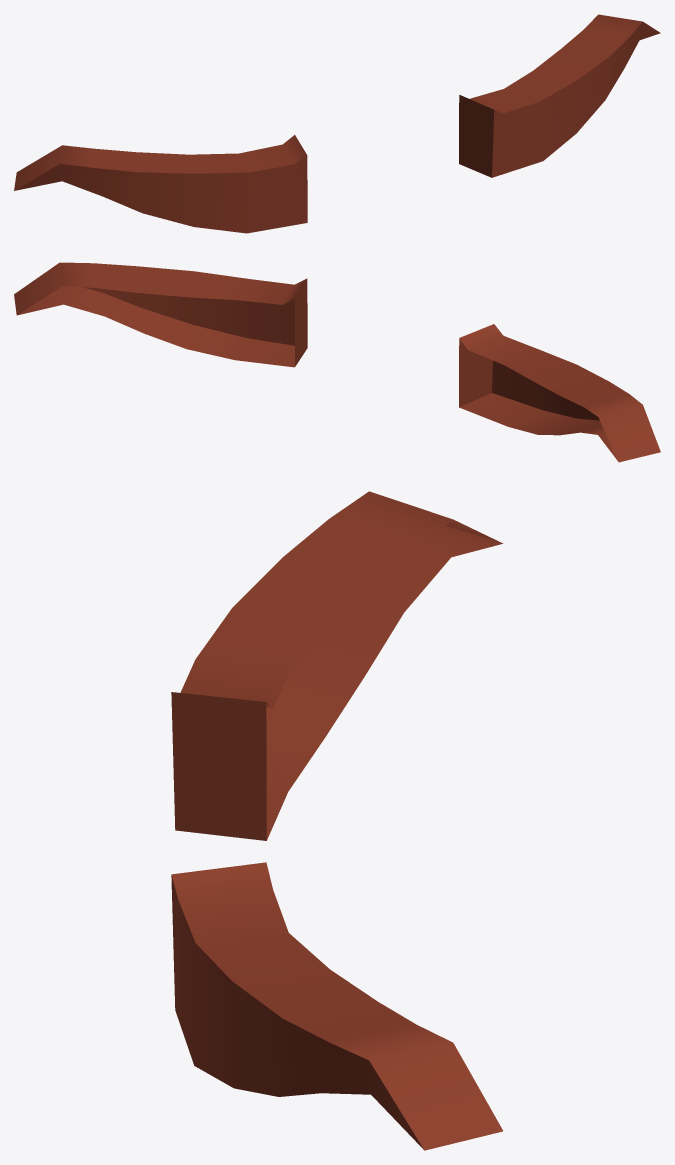
The model's file is Brow_Brown_4.fbx.
3 views of the same model, one above another, from view 1: azimuth 30°, elevation 25°; view 2: azimuth 150°, elevation 25°; view 3: azimuth 270°, elevation 25° (orthographic). The views are drawn at different scales.
Parts seen in each view (by area): view 1: Brow_Brown_4; view 2: Brow_Brown_4; view 3: Brow_Brown_4.
Part boxes in pixels (x1=…): Brow_Brown_4: x1=14, y1=14, x2=660, y2=233; Brow_Brown_4: x1=14, y1=262, x2=660, y2=462; Brow_Brown_4: x1=171, y1=491, x2=502, y2=1150.
Size of the model in its own units: 37.59 by 4.15 by 8.36.
